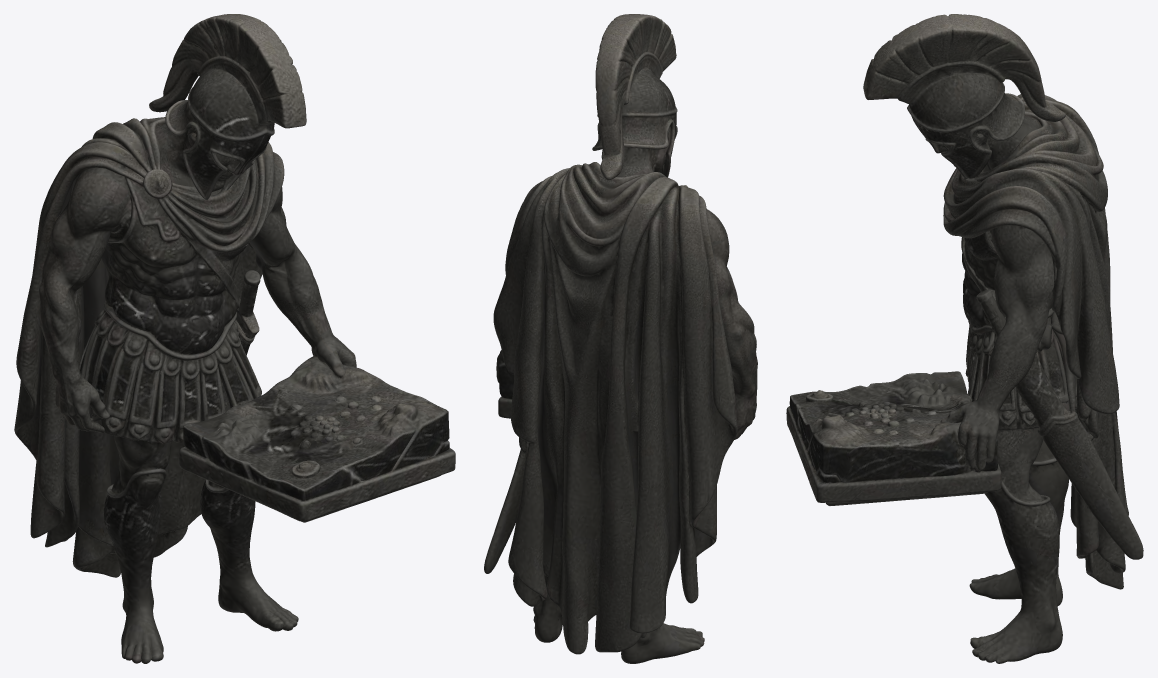
Rendered from mercenary-general.glb.
3 views of the same model, side by side, from view 1: azimuth 30°, elevation 25°; view 2: azimuth 150°, elevation 25°; view 3: azimuth 270°, elevation 25° (orthographic). The views are drawn at different scales.
Size of the model in its own units: 0.9812 by 1.9 by 1.
1 material, 1 textured.
